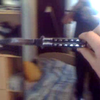knife: (1, 36, 89, 48)
